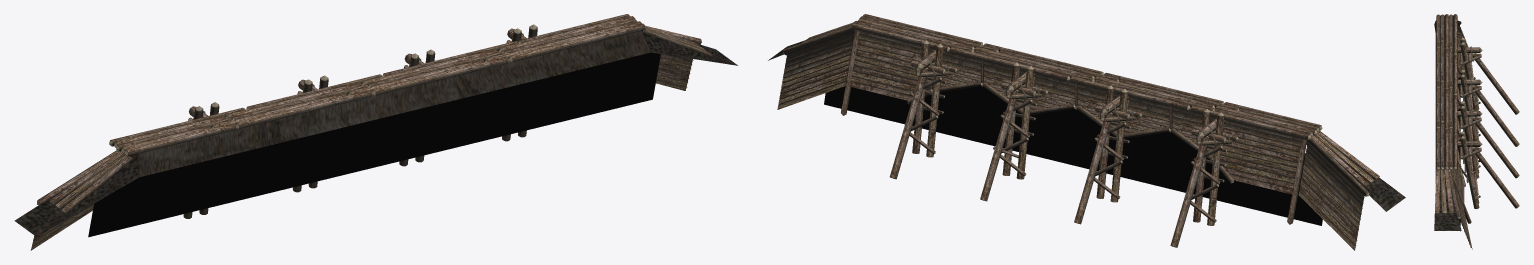
The model's file is bridge_edge_wooden.glb.
3 views of the same model, side by side, from view 1: azimuth 30°, elevation 25°; view 2: azimuth 150°, elevation 25°; view 3: azimuth 270°, elevation 25° (orthographic). The views are drawn at different scales.
Size of the model in its own units: 86.66 by 14.58 by 15.13.
1 material, 1 textured.
